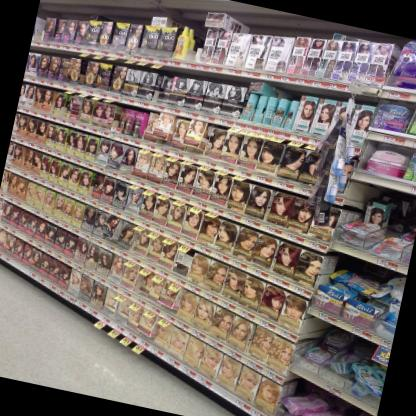empty_space: (184, 41, 203, 61)
